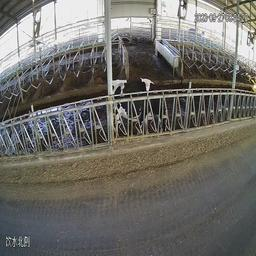cow: (108, 74, 171, 139)
